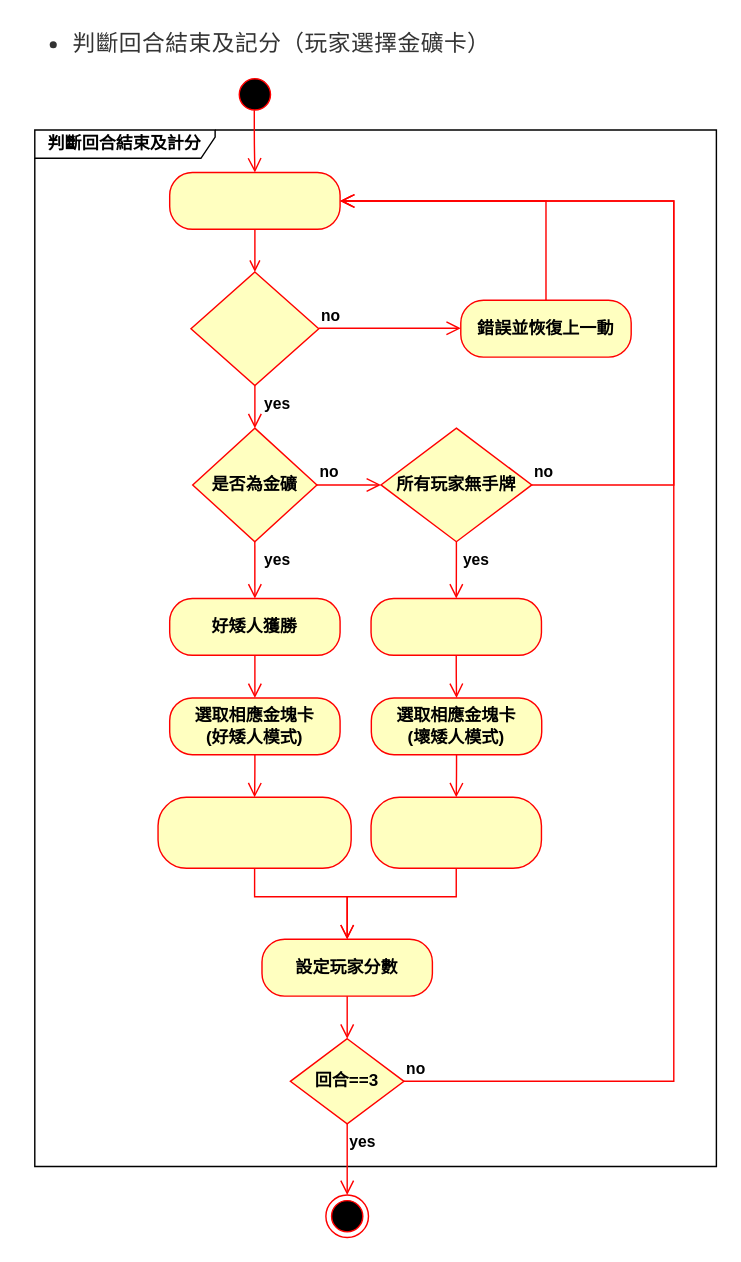
Some shapes in this 741 by 1262 pixel diagram are drawn without their labels. The shapes that lost their labels are listed below. From the top down, each one's centre as x and y in pixels, then its label:
At (x=254, y=200): "出牌".
At (x=254, y=328): "出牌合法?".
At (x=455, y=626): "壞矮人獲勝".
At (x=254, y=832): "好矮人依逆時針抽金塊卡".
At (x=455, y=832): "壞矮人抽取金塊卡".
